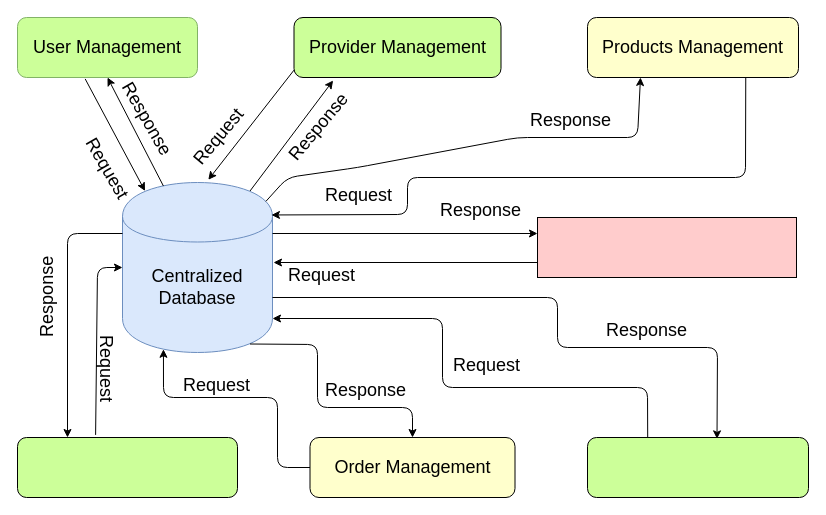
This 826x515 diagram has some shape labels left out. Each missing label, with the box of its shape:
Advertisement Management: (536, 216, 796, 278)
Delegate Management: (16, 436, 238, 498)
Shipping Management: (586, 436, 808, 498)
